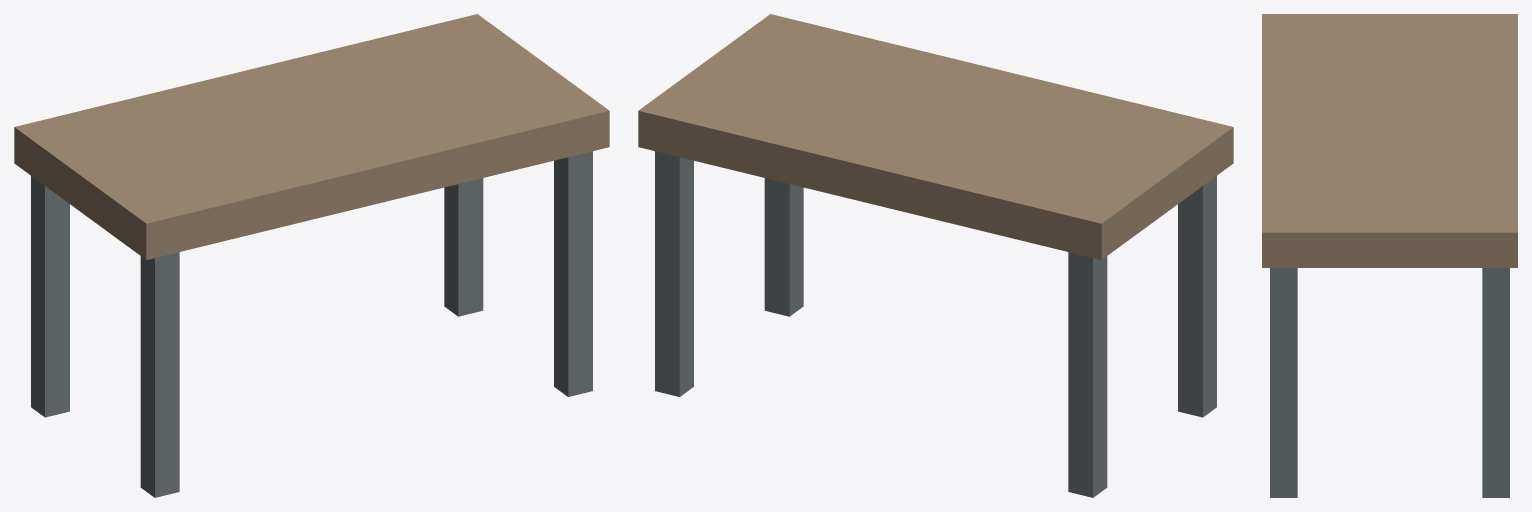
The model's file is iz2_school_lab_bench.glb.
The picture shows the model from 3 angles, left to right: view 1: azimuth 30°, elevation 25°; view 2: azimuth 150°, elevation 25°; view 3: azimuth 270°, elevation 25°; orthographic projection. The views are drawn at different scales.
Visible parts, largest first — view 1: body; view 2: body; view 3: body.
Part boxes in pixels (left/top/right/bottom): body: left=14, top=14, right=609, bottom=497; body: left=638, top=14, right=1233, bottom=497; body: left=1262, top=14, right=1517, bottom=497.
Size of the model in its own units: 1.32 by 0.7623 by 0.6516.
